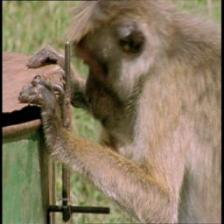monkey: (69, 0, 164, 135)
